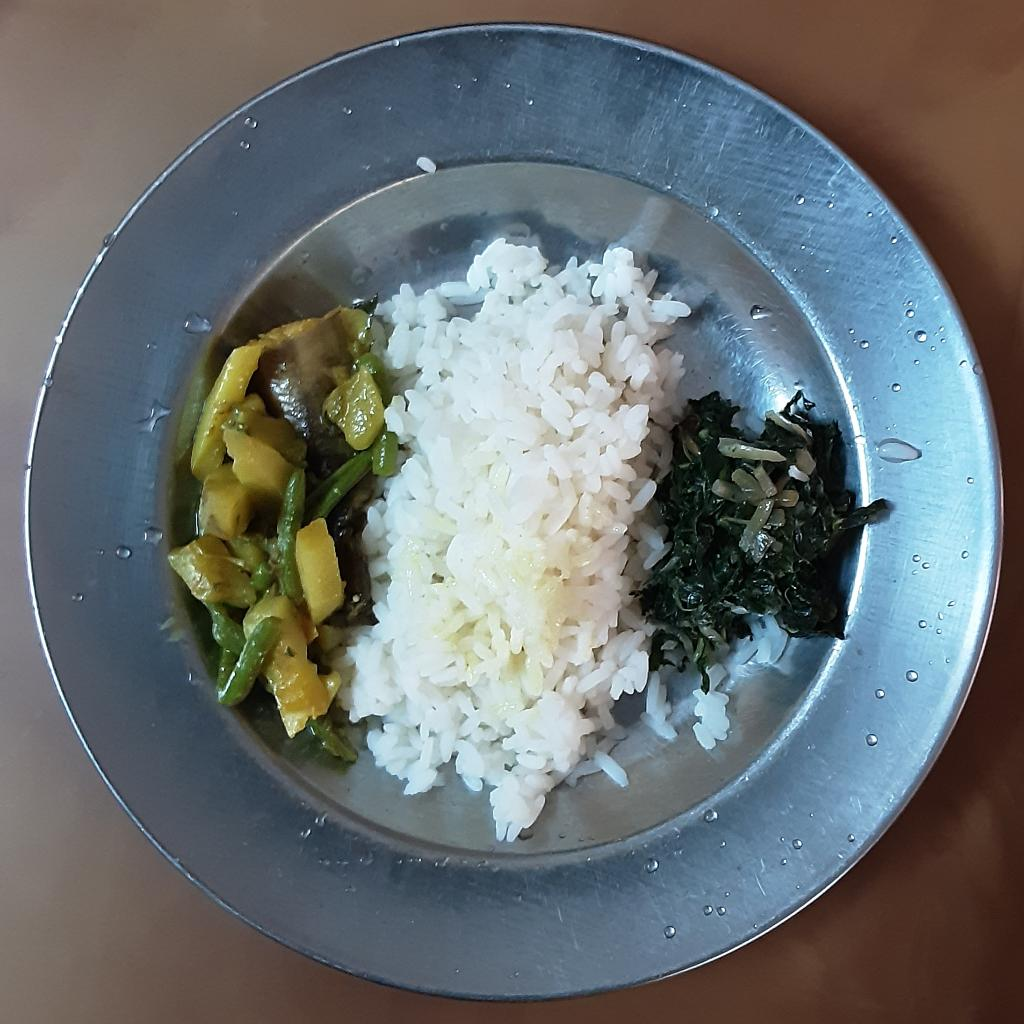rice: (321, 234, 686, 842)
shak: (636, 389, 889, 666)
vegetable: (169, 308, 397, 760)
